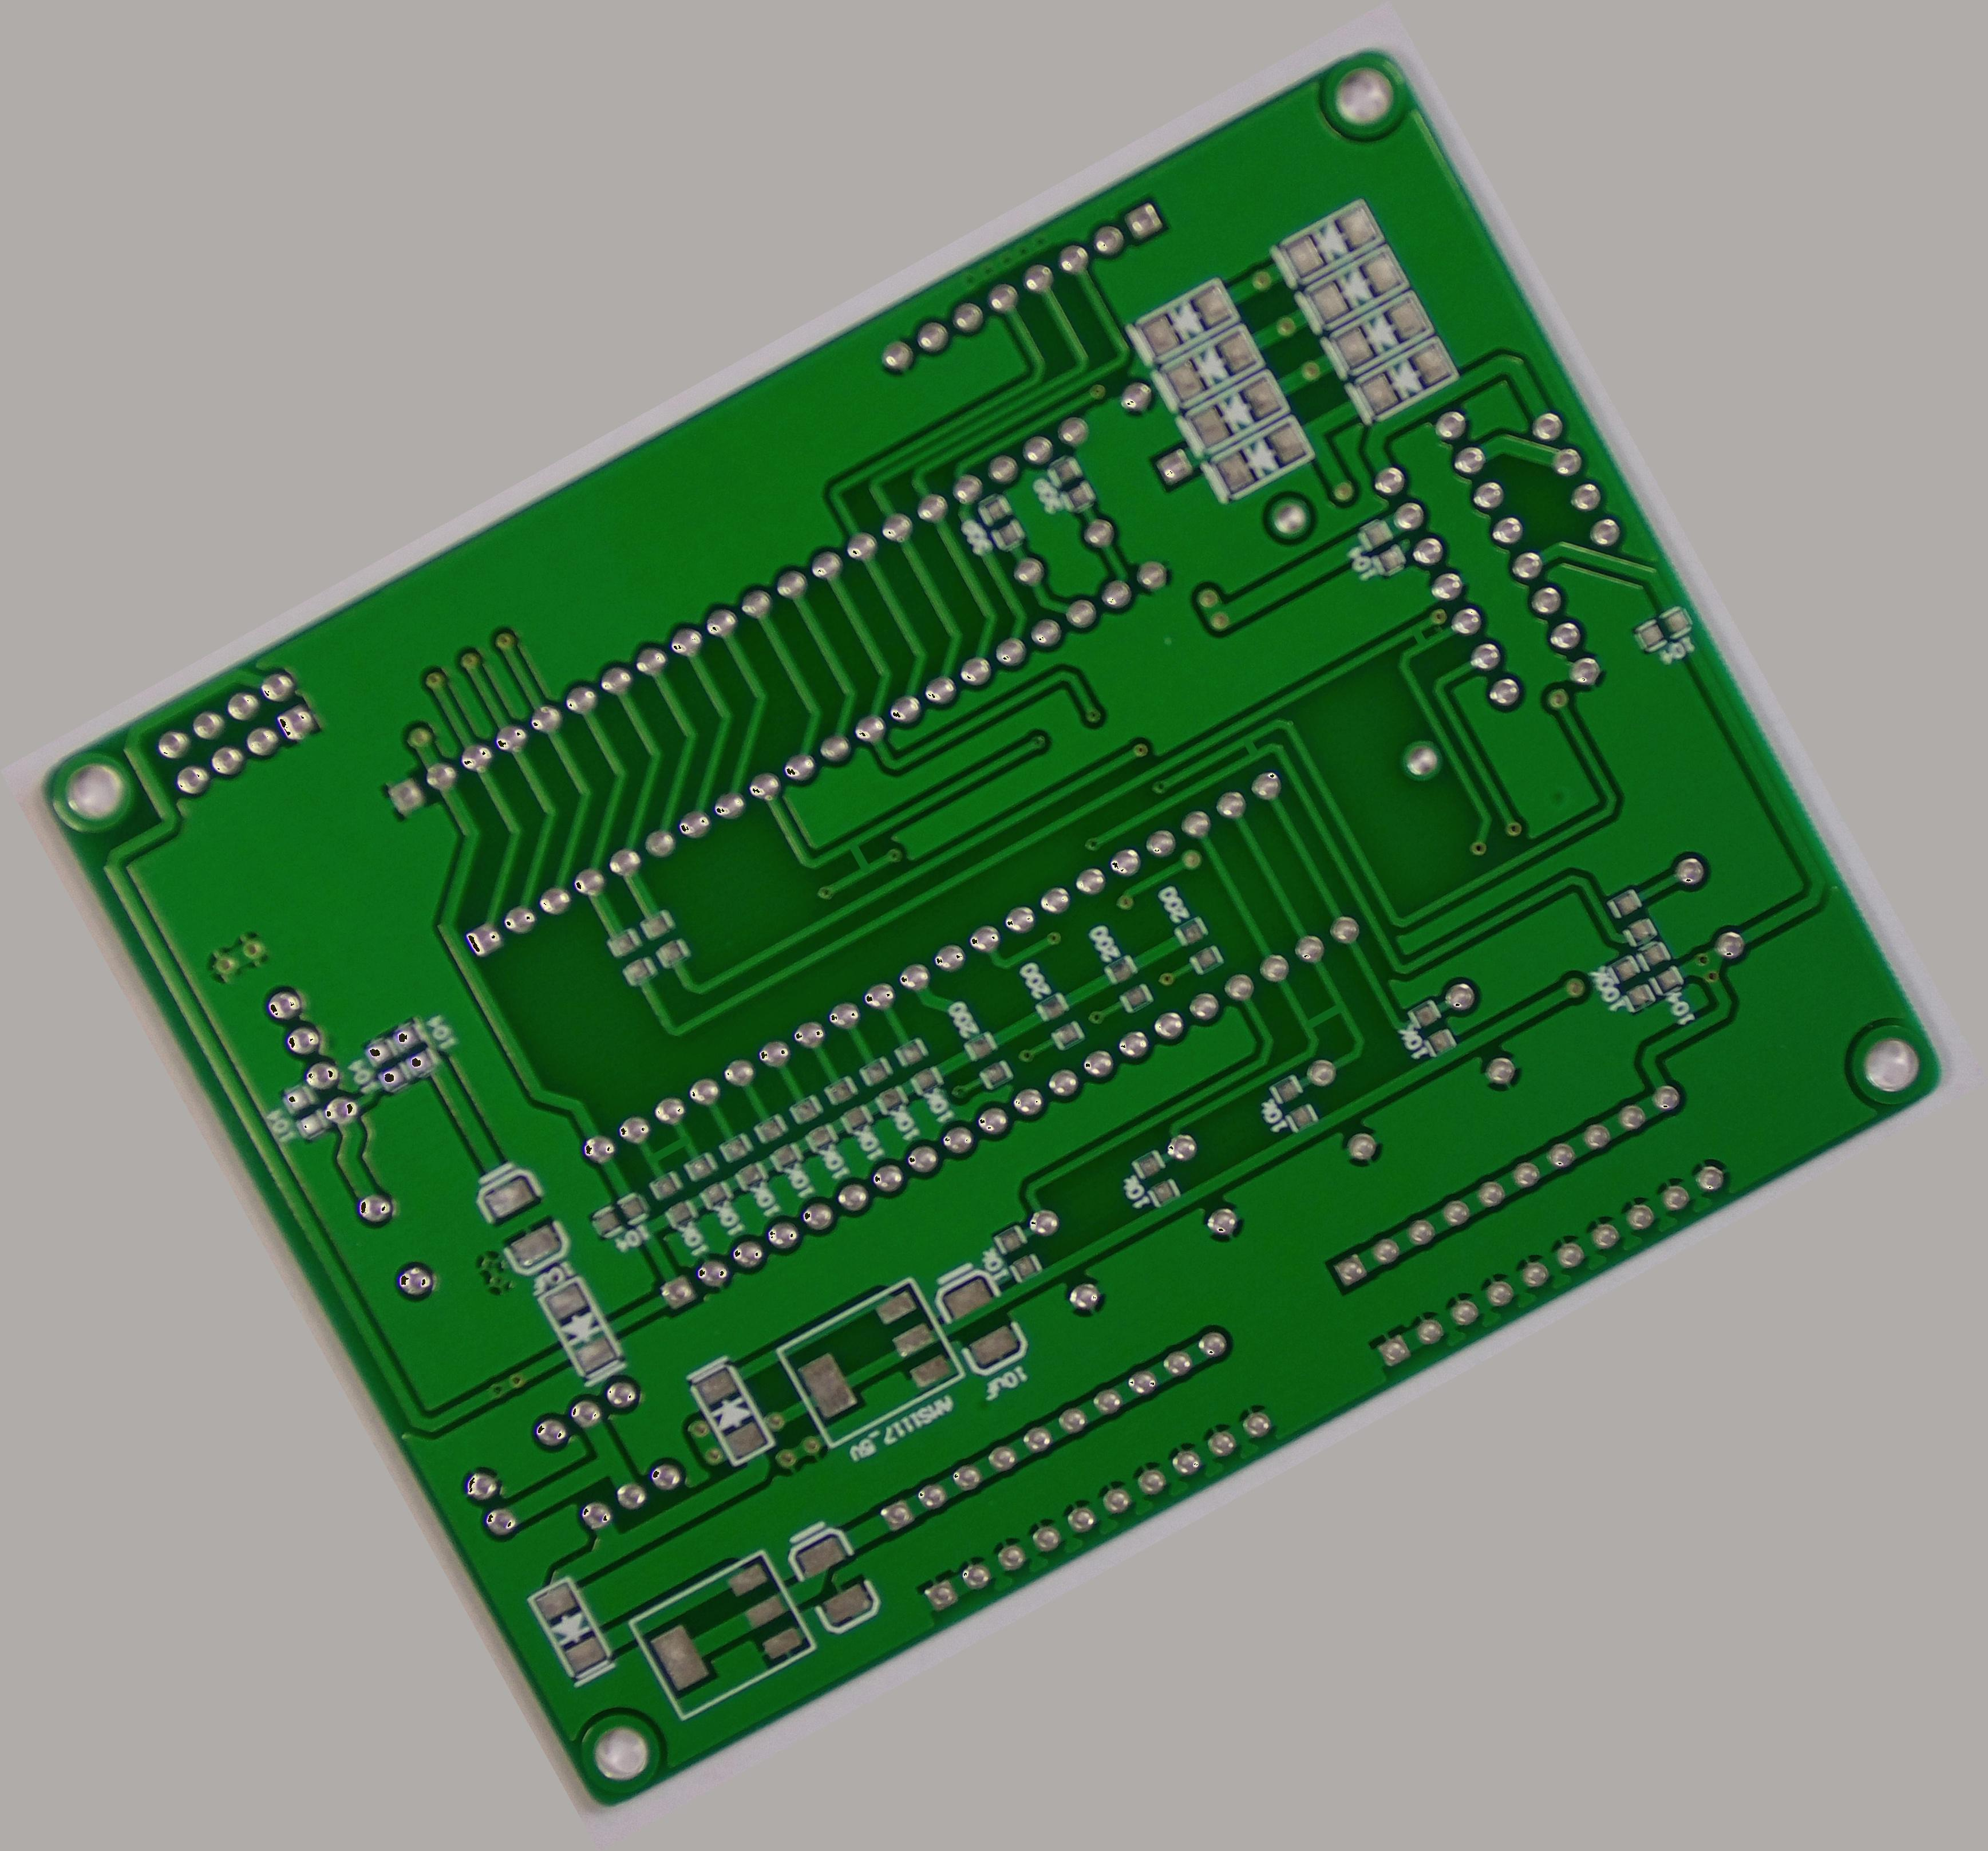short: (1284, 981, 1360, 1047), (823, 823, 887, 892), (637, 1124, 701, 1174), (1224, 722, 1275, 774), (1395, 614, 1440, 661)
